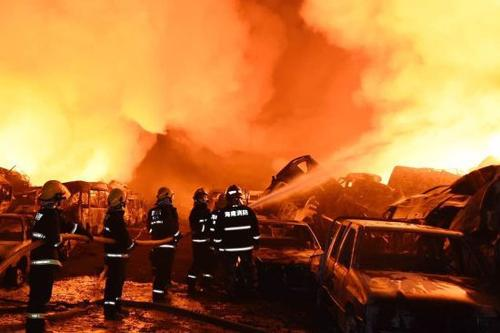smoke: (1, 7, 500, 151)
